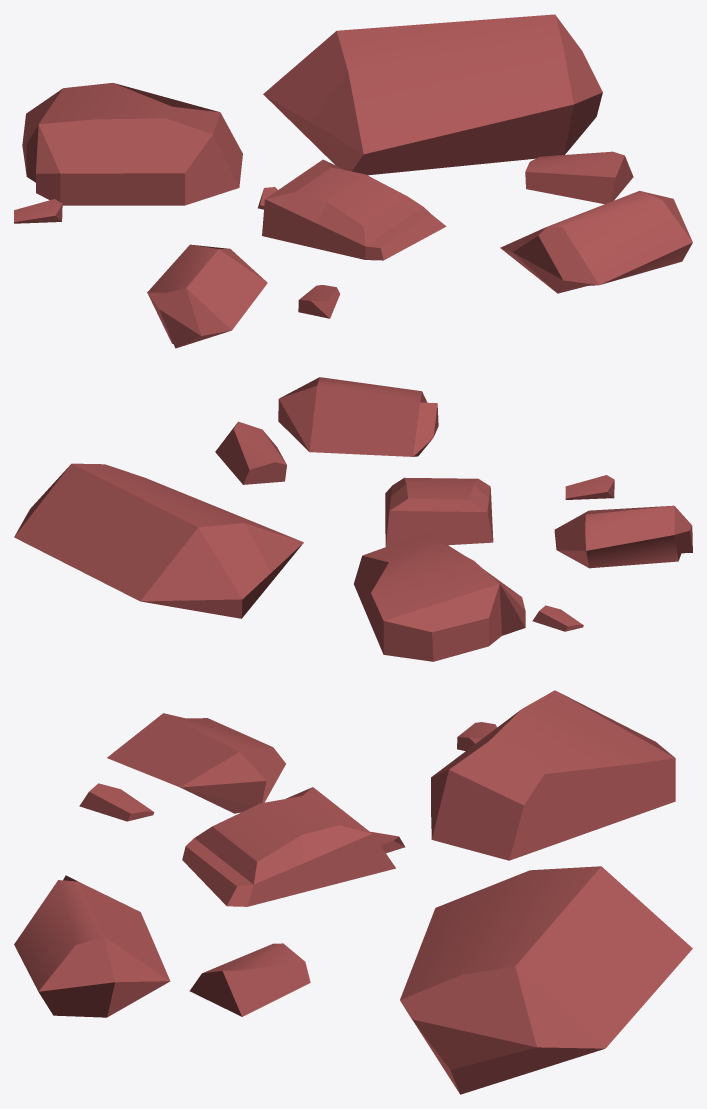
The model's file is SM_Ground_Rock_03.fbx.
3 views of the same model, one above another, from view 1: azimuth 30°, elevation 25°; view 2: azimuth 150°, elevation 25°; view 3: azimuth 270°, elevation 25° (orthographic). The views are drawn at different scales.
Visible parts, largest first — view 1: Box070; view 2: Box070; view 3: Box070.
Part boxes in pixels (x1,y1,x2,y2): Box070: (14,14,692,348); Box070: (14,377,692,661); Box070: (14,690,692,1094).
Size of the model in its own units: 218 by 43.51 by 190.
